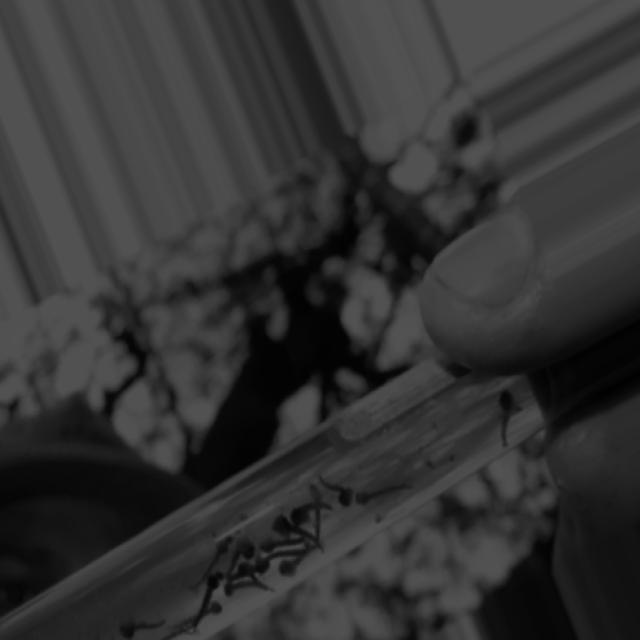larvas: (272, 511, 327, 551), (254, 545, 305, 579), (279, 543, 315, 584), (358, 478, 408, 506), (241, 561, 274, 597), (178, 600, 220, 628), (259, 533, 304, 556), (207, 531, 233, 569), (318, 474, 352, 503), (291, 503, 332, 527), (196, 576, 215, 622), (120, 616, 166, 634), (311, 476, 322, 540), (229, 538, 253, 567), (166, 616, 192, 640), (502, 388, 513, 444), (224, 582, 254, 592)
